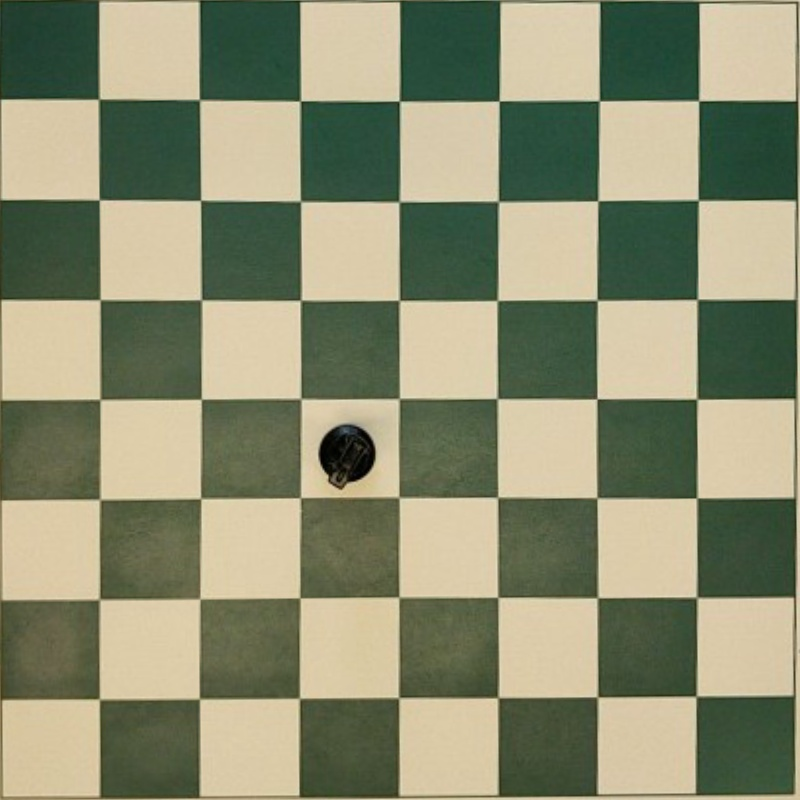black-knight: (318, 423, 376, 488)
